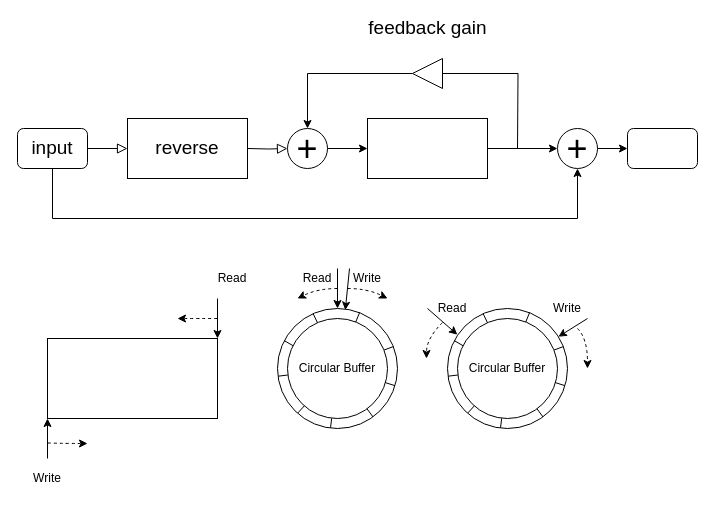
Image size: 715x506. Some labels were removed from this diagram. Each missing label, with the centre of its shape:
"buffer_1" goes at point 132,378.
"delay" goes at point 427,148.
"output" goes at point 662,148.
